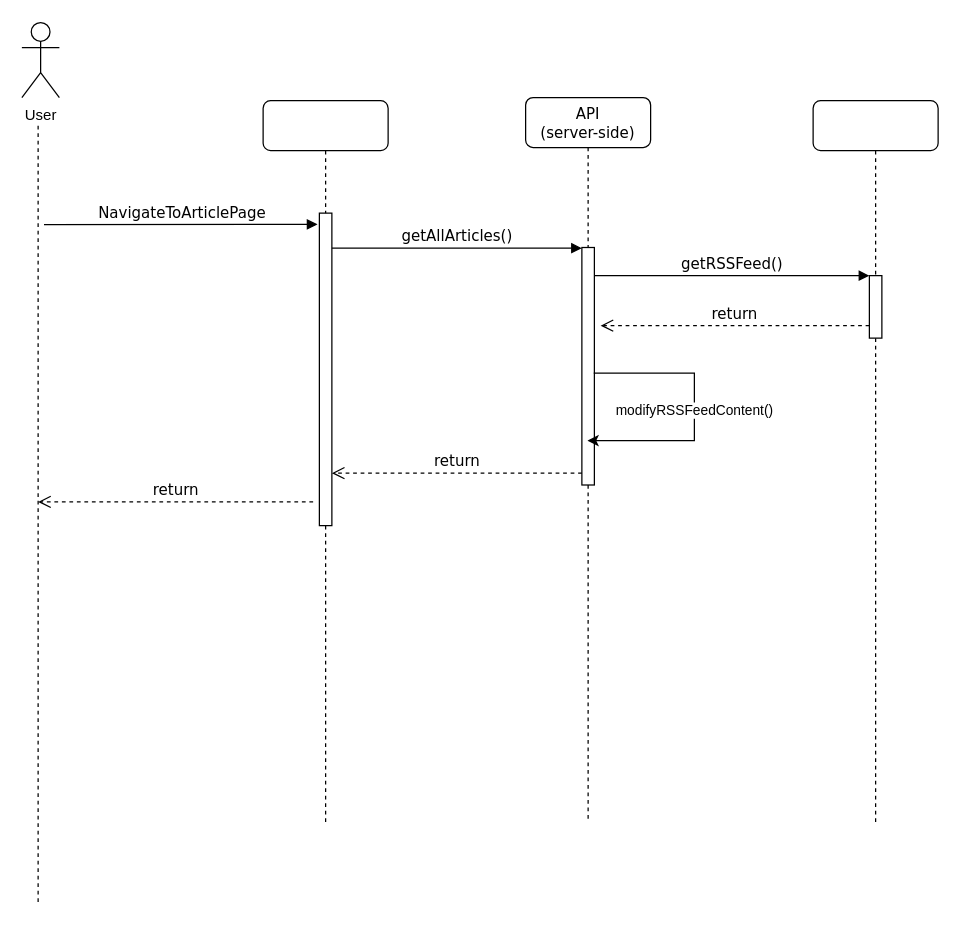
The diagram is 960 pixels wide and 925 high, and some of its shapes have lost their labels. The shapes that lost their labels are listed below. From the top down, each one's box as (x1, y1, x2, y2) in pixels, then its label:
(262, 99, 388, 826): Mobile App (client-side)
(812, 99, 938, 826): DeSmog API (third party)
